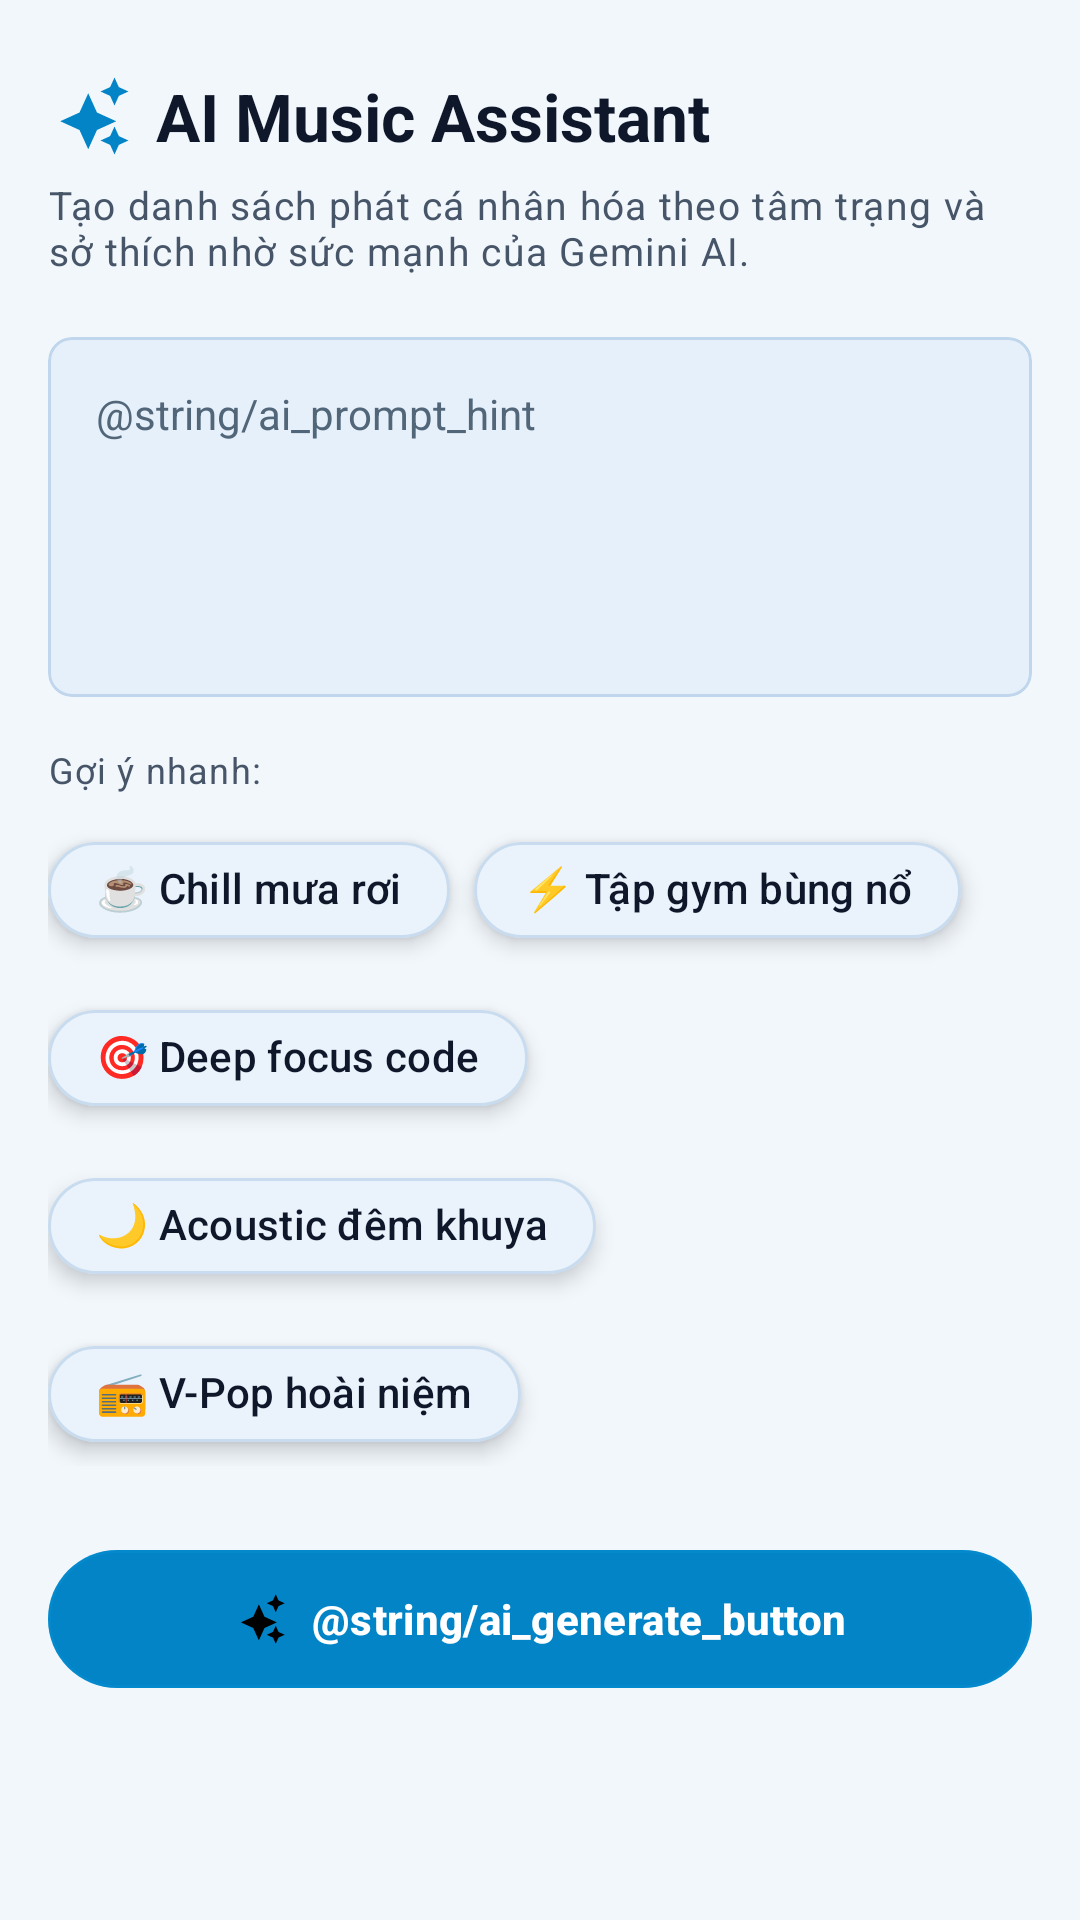

Screen size 1080×1920. Icon name, then its box in pixels as BBox(x1, y1, x2, y2):
sparkle ai: BBox(60, 77, 129, 155)
